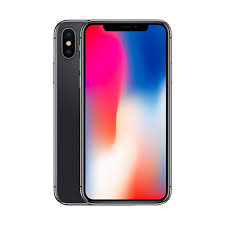iphone: (79, 18, 172, 207)
iphone10: (80, 17, 173, 206)
